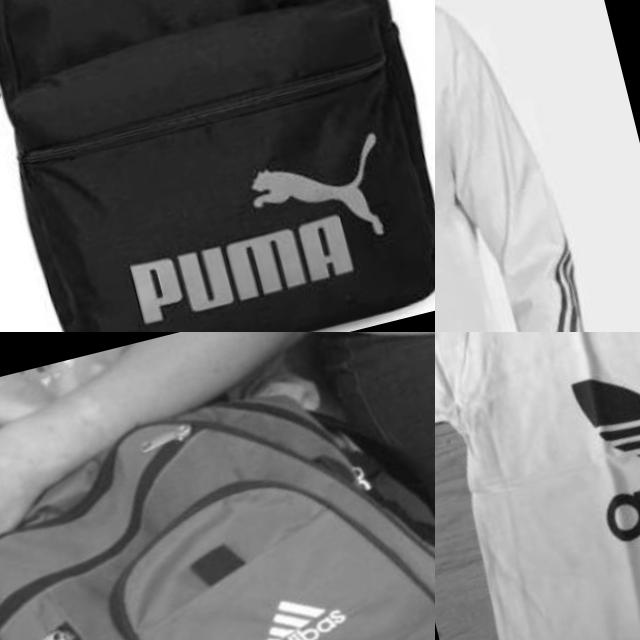ADIDAS_fake: (223, 566, 378, 640)
ADIDAS_original: (521, 332, 640, 578)
PUMA_original: (100, 124, 421, 332)
